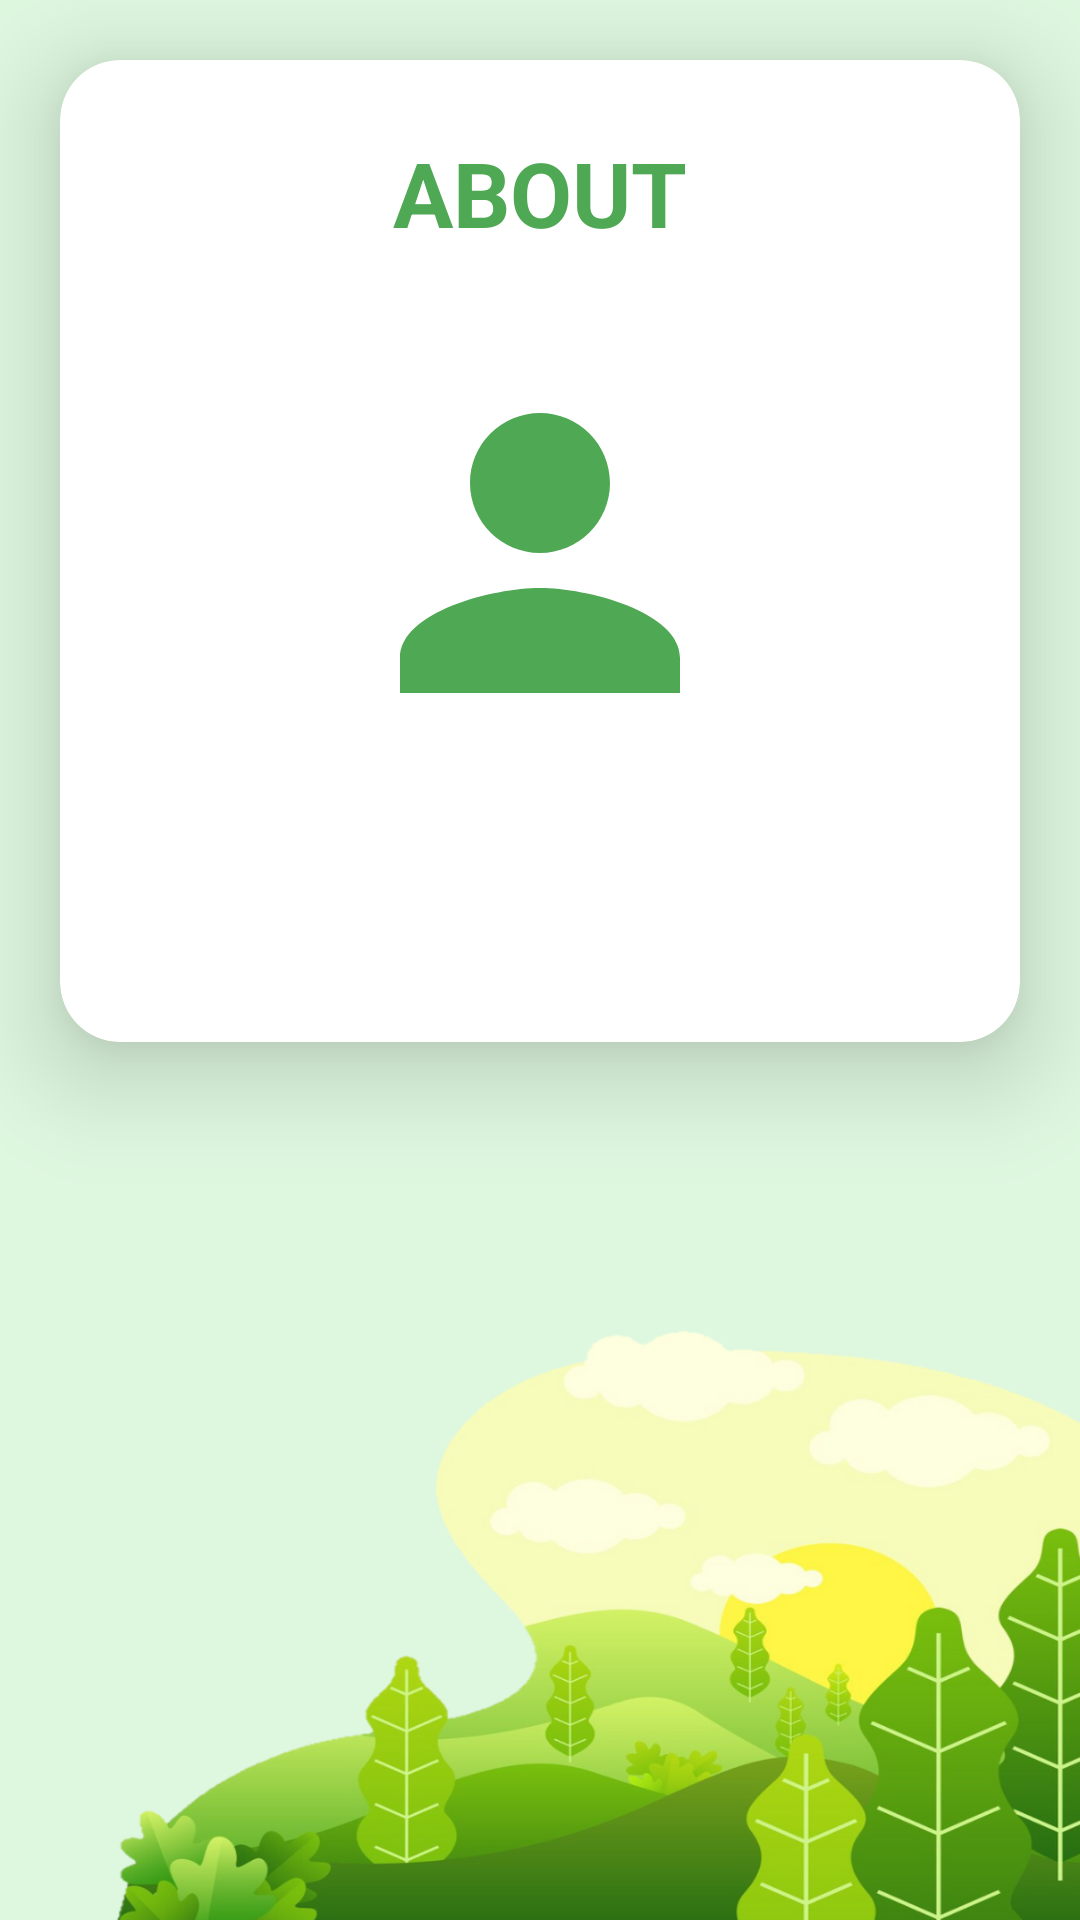

Point at icon controls on the screen. Image size 1080x1920, points as [x,y].
person: [540,553]
